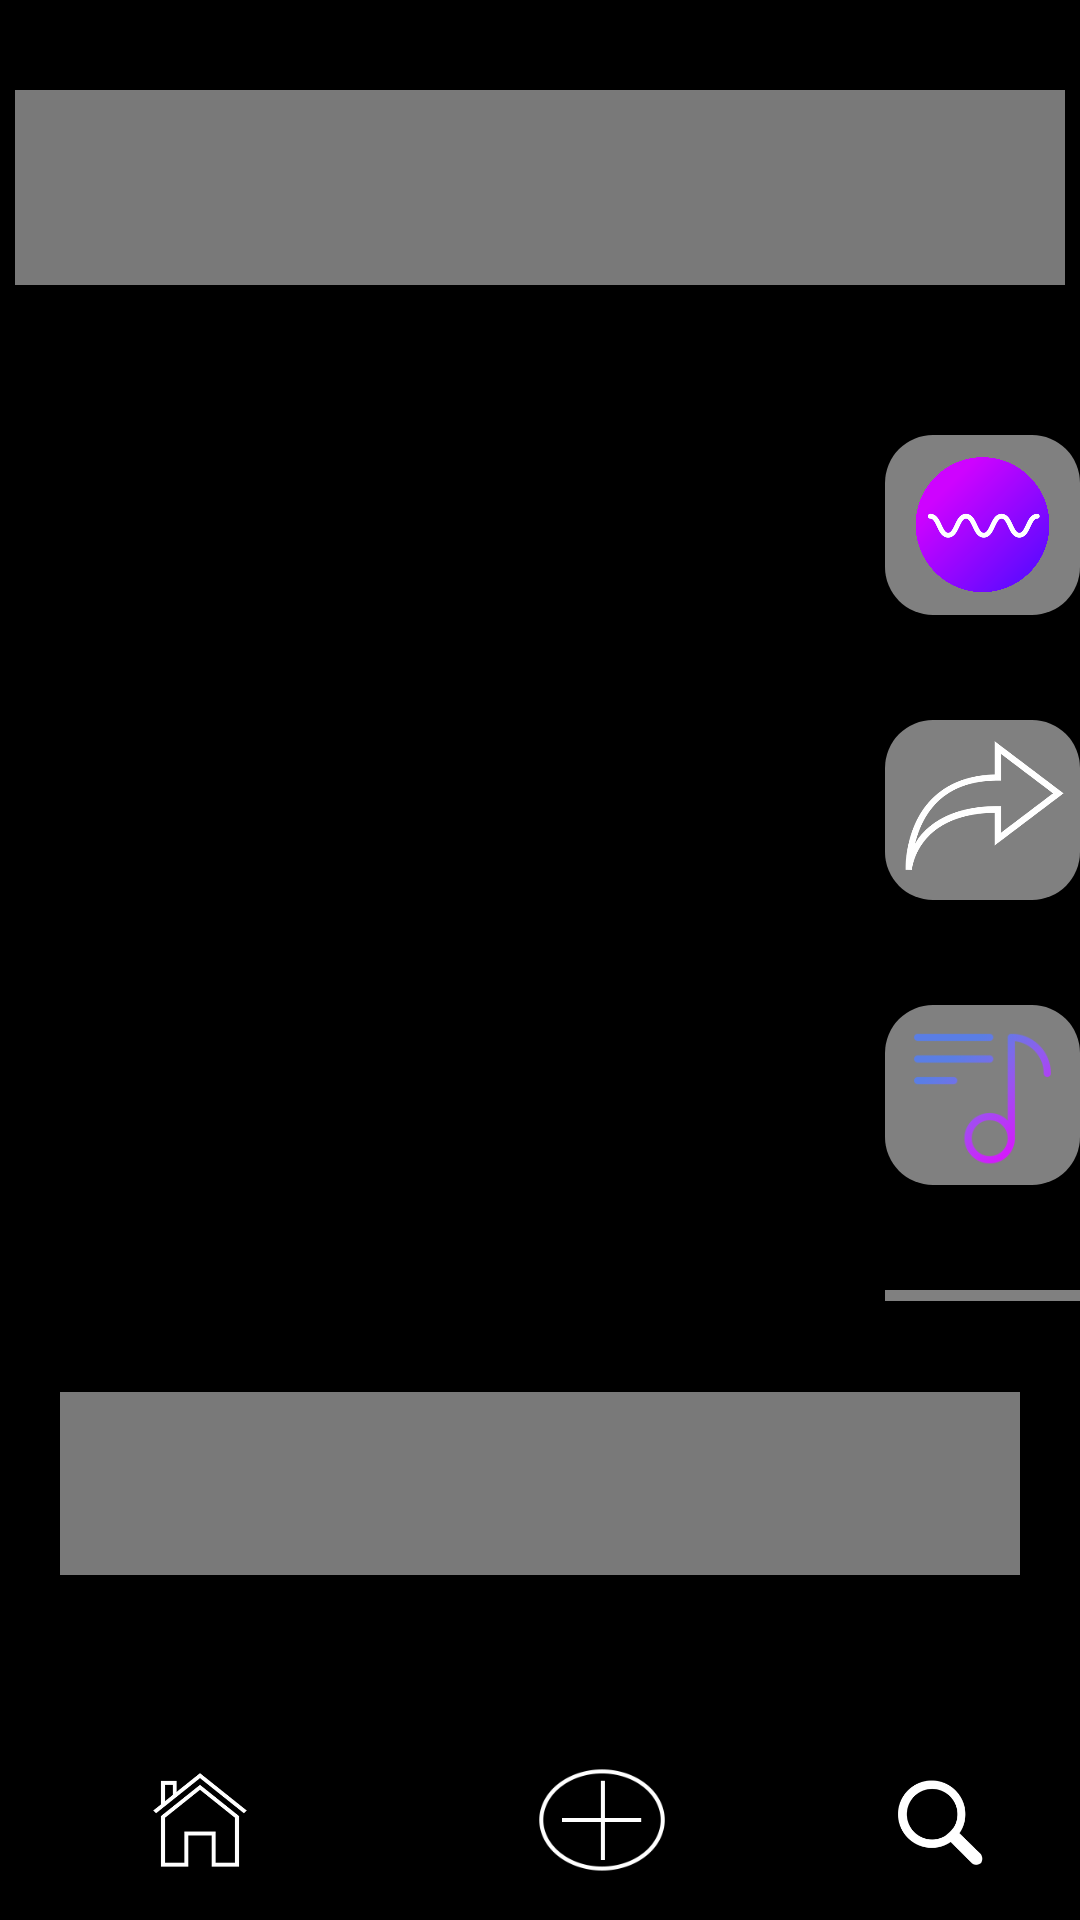

Icons on this 1080 × 1920 Android screen, each with its box as {"x1": x1, "y1": y1, "x2": x2, "y2": y2}:
compartilhar: {"x1": 885, "y1": 720, "x2": 1080, "y2": 900}
home: {"x1": 153, "y1": 1773, "x2": 247, "y2": 1867}
